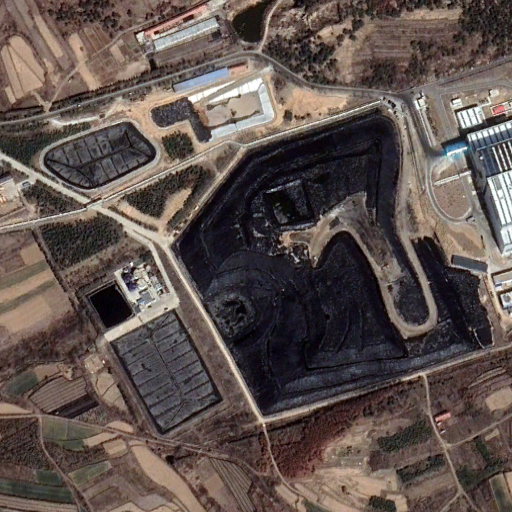lf: (167, 100, 497, 429)
